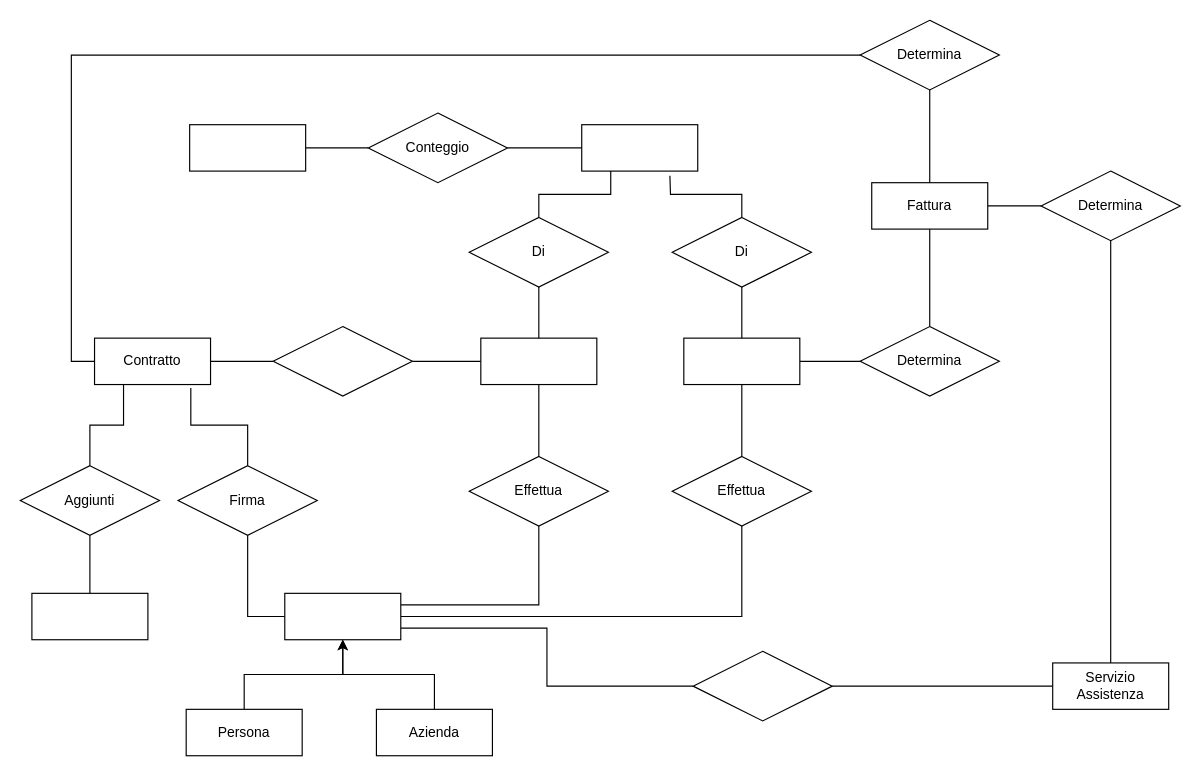
This 1201x776 diagram has some shape labels left out. Here are the shapes that lost their labels. From the top down, the centre of each, then its label:
At point (247, 147): "Inventario".
At point (639, 147): "Fotocopiatrice".
At point (342, 360): "Sancisce".
At point (538, 361): "Noleggio".
At point (741, 361): "Acquisto".
At point (89, 616): "Servizi".
At point (342, 616): "Cliente".
At point (762, 685): "Richiede".
